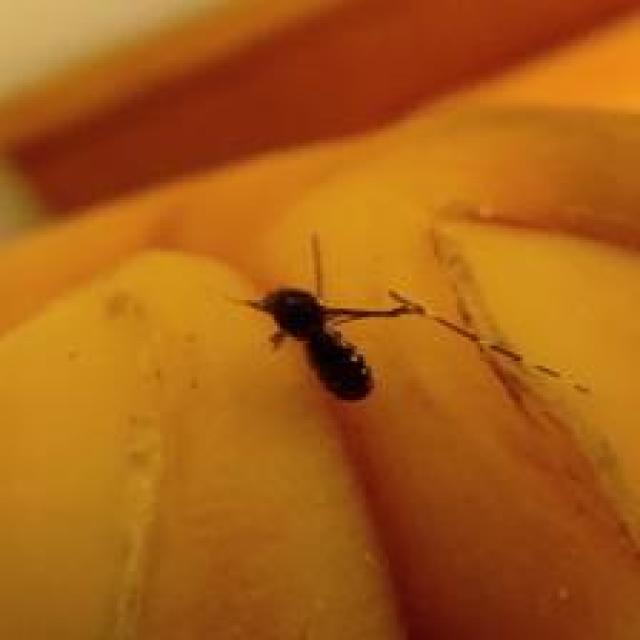Aedes albopictus: (234, 228, 426, 403)
